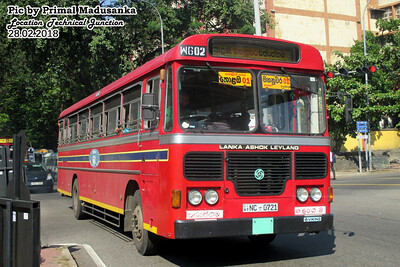bus: (57, 33, 334, 257)
car: (24, 161, 53, 192)
